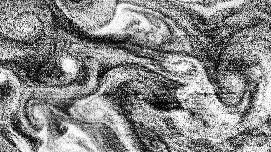CE: (214, 51, 260, 113), (4, 6, 52, 42), (20, 93, 50, 132)
